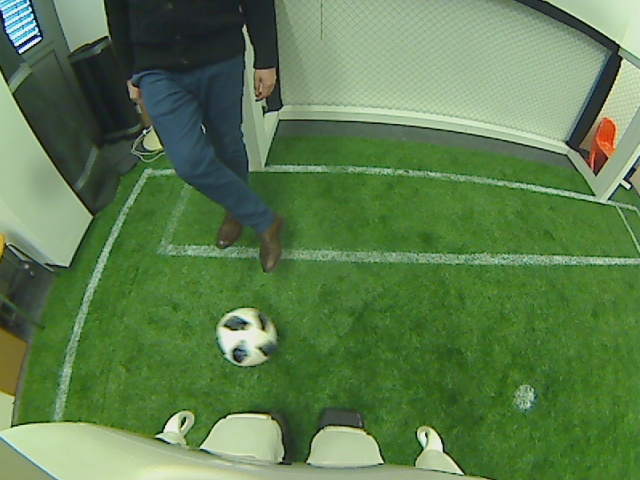ball: (213, 309, 280, 366)
